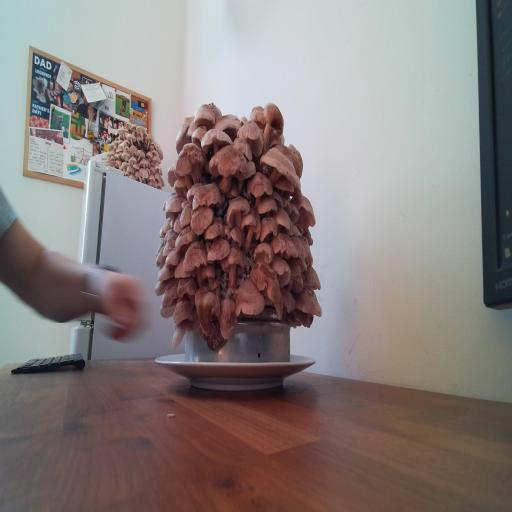Shiitake Mushroom: (194, 132, 260, 201), (239, 252, 296, 311), (225, 202, 276, 256), (213, 237, 257, 294), (229, 110, 276, 163), (177, 232, 219, 290), (217, 185, 258, 237), (259, 142, 302, 188), (284, 280, 332, 321), (181, 195, 223, 241), (172, 135, 208, 188), (241, 163, 278, 211), (163, 309, 206, 349), (194, 310, 228, 357), (288, 187, 319, 238), (197, 230, 238, 268), (263, 248, 299, 291), (166, 219, 205, 258), (206, 108, 248, 143), (194, 283, 220, 339), (163, 291, 201, 327), (228, 155, 263, 193), (227, 129, 261, 165), (187, 179, 226, 210), (172, 108, 196, 157), (235, 277, 265, 316), (289, 226, 315, 269), (283, 138, 310, 179), (268, 171, 302, 203), (217, 296, 240, 343), (157, 190, 193, 220), (263, 101, 284, 152), (299, 261, 325, 299), (251, 191, 284, 220), (160, 242, 187, 275), (268, 233, 300, 260), (192, 103, 223, 130), (200, 127, 232, 153), (199, 214, 229, 241), (187, 117, 210, 150), (182, 174, 206, 204), (159, 225, 179, 261), (225, 221, 251, 248), (288, 306, 317, 330), (283, 250, 304, 283), (248, 101, 270, 131), (170, 172, 191, 203), (279, 281, 298, 315), (175, 201, 197, 230), (174, 275, 199, 298), (282, 201, 304, 227), (273, 205, 291, 235), (271, 295, 290, 322), (162, 277, 179, 307), (253, 241, 275, 264), (154, 216, 175, 240), (260, 216, 278, 243), (174, 255, 192, 279), (270, 187, 286, 214), (293, 251, 309, 277), (277, 195, 295, 217), (184, 118, 199, 143), (157, 262, 175, 282), (152, 248, 168, 270), (200, 262, 216, 284), (268, 127, 285, 147), (299, 223, 315, 244), (171, 212, 184, 236), (283, 187, 303, 202), (158, 303, 176, 319), (287, 275, 303, 293), (166, 162, 177, 188), (288, 222, 303, 241), (224, 181, 239, 198), (210, 277, 221, 297), (154, 280, 166, 297), (155, 236, 165, 256), (224, 224, 231, 242), (304, 256, 314, 268), (162, 199, 166, 211)
